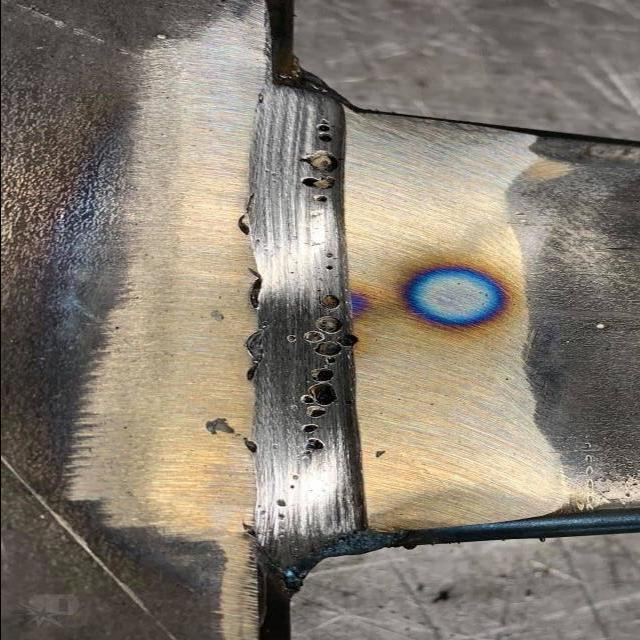defect: (283, 313, 361, 457), (294, 149, 341, 208), (308, 118, 338, 145), (316, 289, 343, 311), (271, 497, 291, 525), (287, 472, 301, 491), (322, 264, 339, 272), (324, 251, 333, 260)
